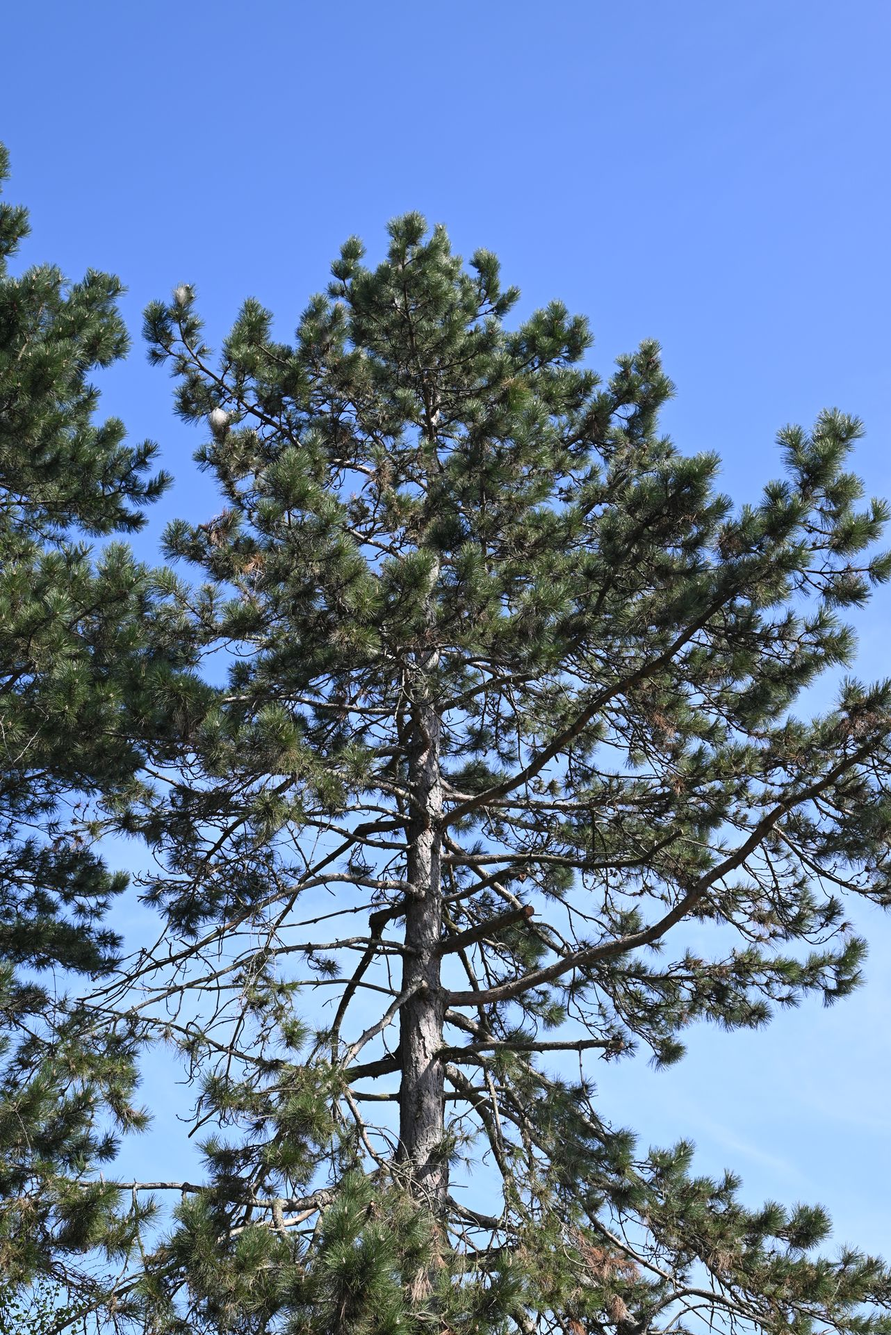thaumatopoea pityocampa jajno gnijezdo: (169, 277, 195, 314), (205, 402, 232, 431)
